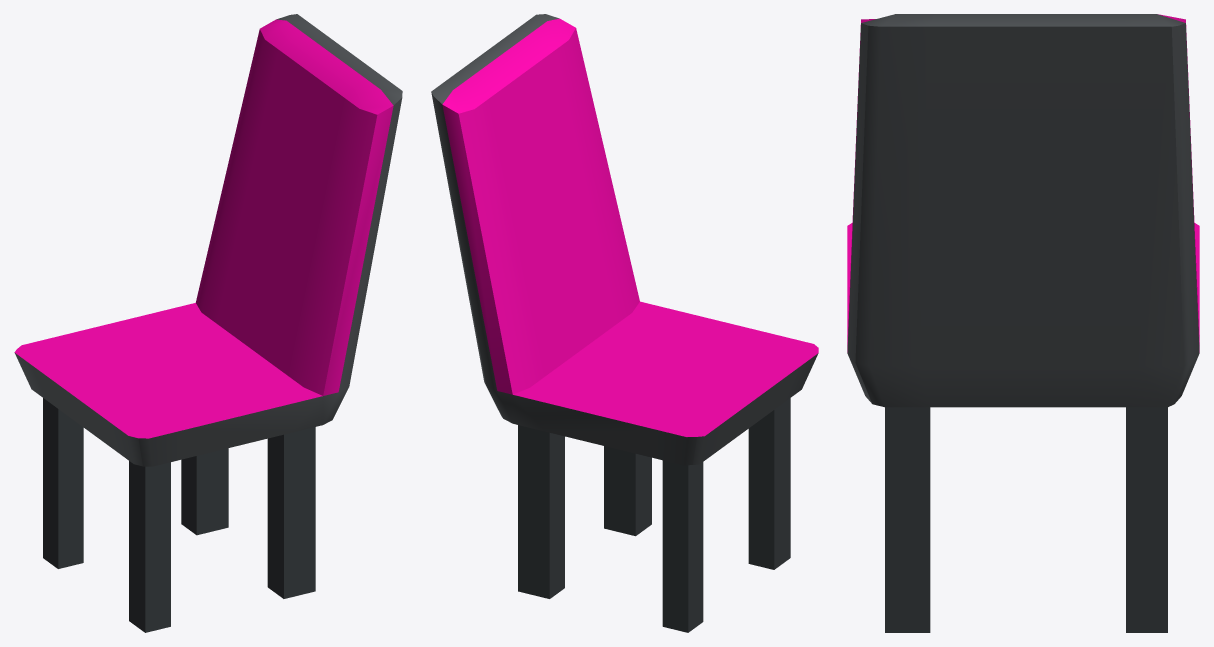
File: chair.fbx
The picture shows the model from 3 angles, left to right: view 1: azimuth 30°, elevation 25°; view 2: azimuth 150°, elevation 25°; view 3: azimuth 270°, elevation 25°; orthographic projection. The views are drawn at different scales.
Visible parts, largest first — view 1: pCube12; view 2: pCube12; view 3: pCube12.
Part boxes in pixels (x1,y1,x2,y2): pCube12: (14,14,402,632); pCube12: (431,14,818,632); pCube12: (847,14,1199,632).
Bounding box in the file's own units: 1.88 × 3.11 × 1.49.
